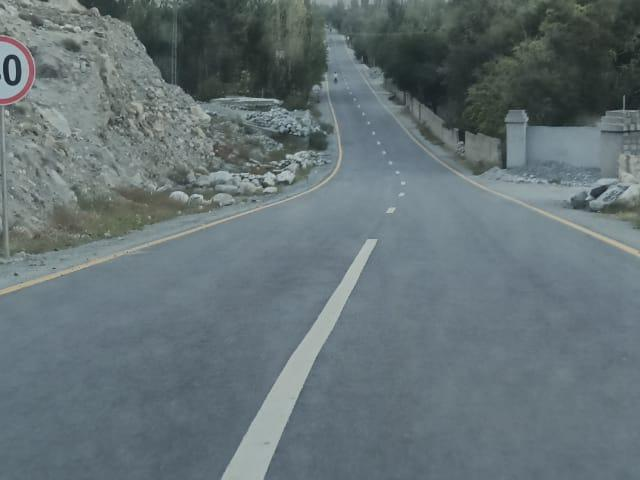sharp_turn: (328, 52, 442, 275)
